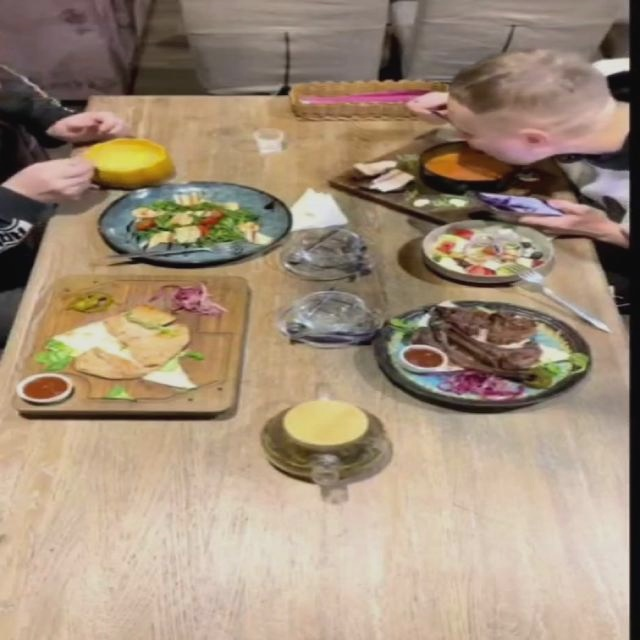meat: (13, 274, 256, 425), (371, 299, 594, 409)
salad: (95, 182, 289, 265), (421, 219, 556, 284)
soup: (326, 136, 575, 230), (80, 137, 173, 187)
tea: (249, 377, 405, 513)
